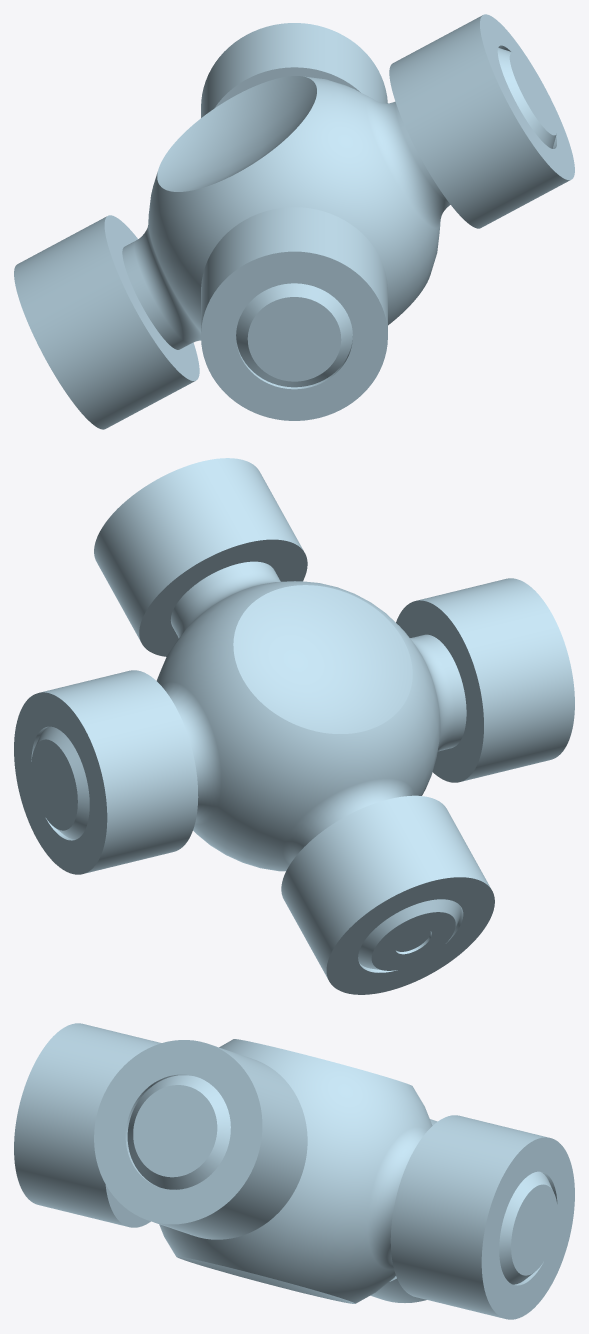
Rendered from croisillion_bas3.dae.
The picture shows the model from 3 angles, top to bottom: view 1: azimuth 30°, elevation 25°; view 2: azimuth 150°, elevation 25°; view 3: azimuth 270°, elevation 25°; orthographic projection.
Parts seen in each view (by area): view 1: C0001_0001-2_Croisillon_4; view 2: C0001_0001-2_Croisillon_4; view 3: C0001_0001-2_Croisillon_4.
Part boxes in pixels (x1,y1,x2,y2): C0001_0001-2_Croisillon_4: [14, 14, 574, 429]; C0001_0001-2_Croisillon_4: [14, 458, 574, 994]; C0001_0001-2_Croisillon_4: [14, 1023, 574, 1319].
Size of the model in its own units: 0.0904 by 0.0962 by 0.0746.
